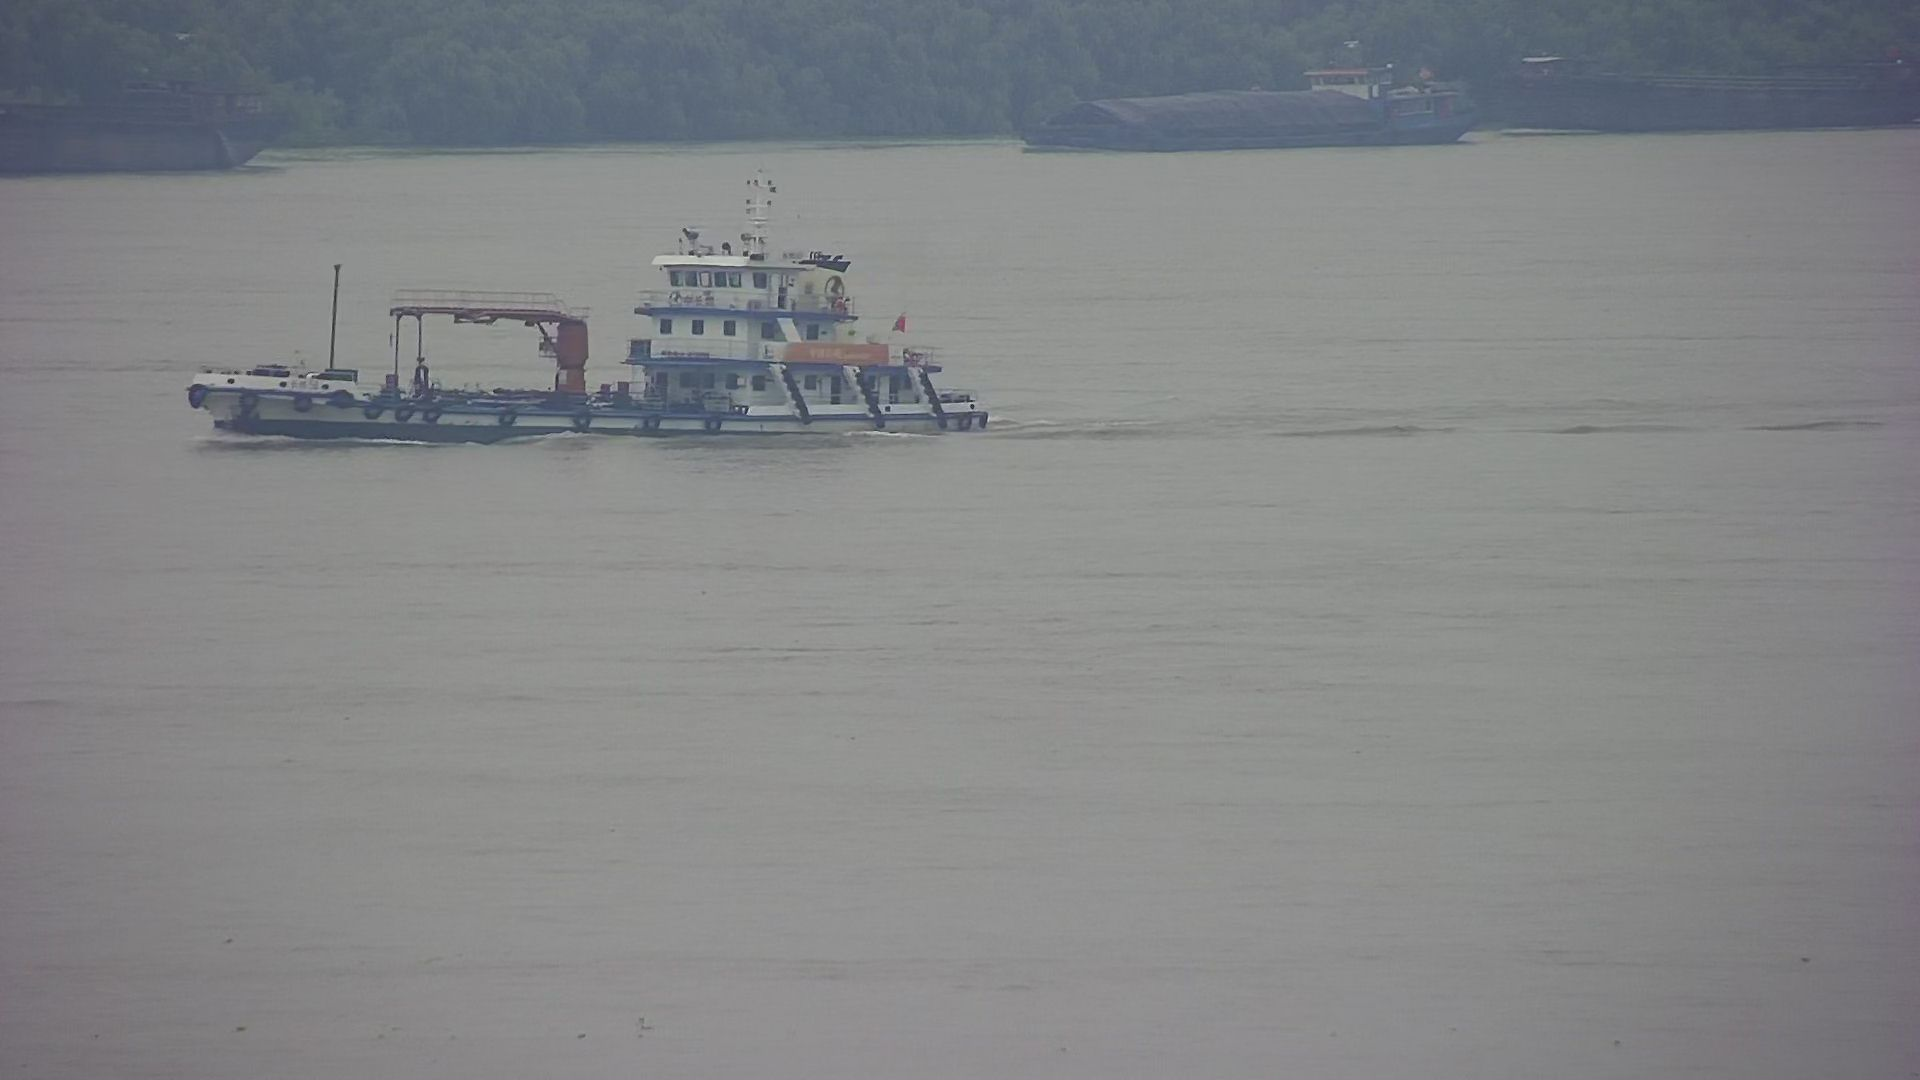ship: (162, 196, 1029, 454), (1007, 41, 1489, 158), (1503, 34, 1920, 142), (1, 59, 291, 179)
